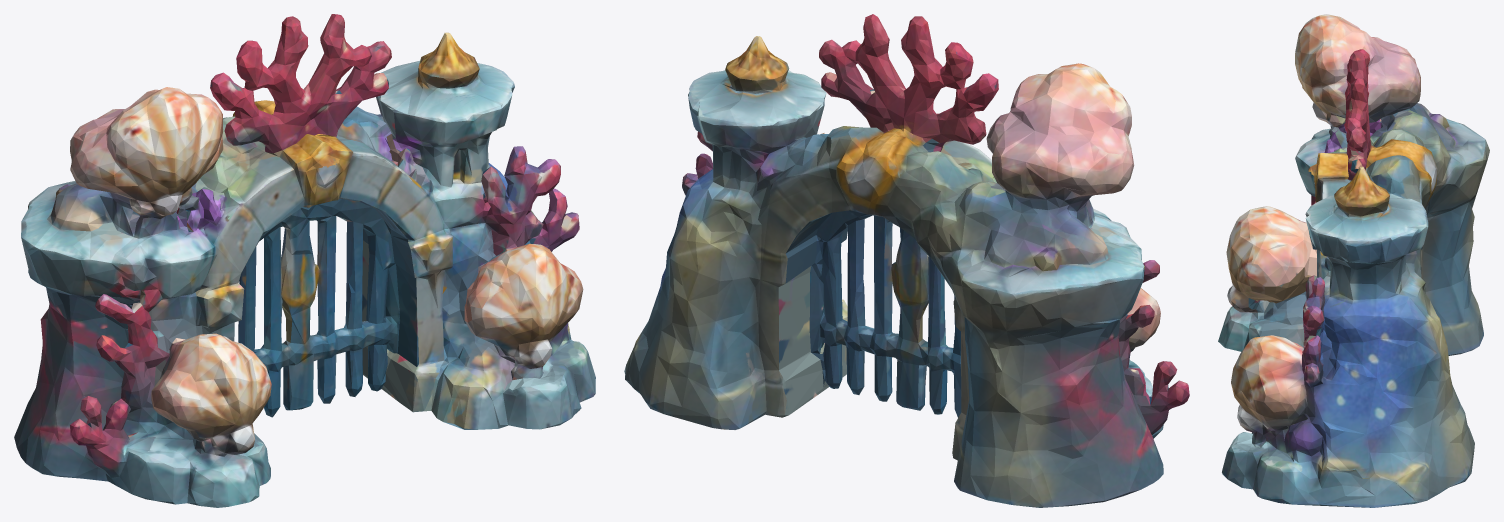
File: sea_coral_gate_1117.glb
3 views of the same model, side by side, from view 1: azimuth 30°, elevation 25°; view 2: azimuth 150°, elevation 25°; view 3: azimuth 270°, elevation 25° (orthographic). The views are drawn at different scales.
Visible parts, largest first — view 1: tmpxqkf5lkk.ply; view 2: tmpxqkf5lkk.ply; view 3: tmpxqkf5lkk.ply.
Boxes of the visible parts, left/top/right/bottom form: tmpxqkf5lkk.ply: left=14, top=14, right=595, bottom=507; tmpxqkf5lkk.ply: left=624, top=14, right=1189, bottom=507; tmpxqkf5lkk.ply: left=1218, top=14, right=1489, bottom=507.
Size of the model in its own units: 2 by 1.45 by 1.04.
1 material, 1 textured.
